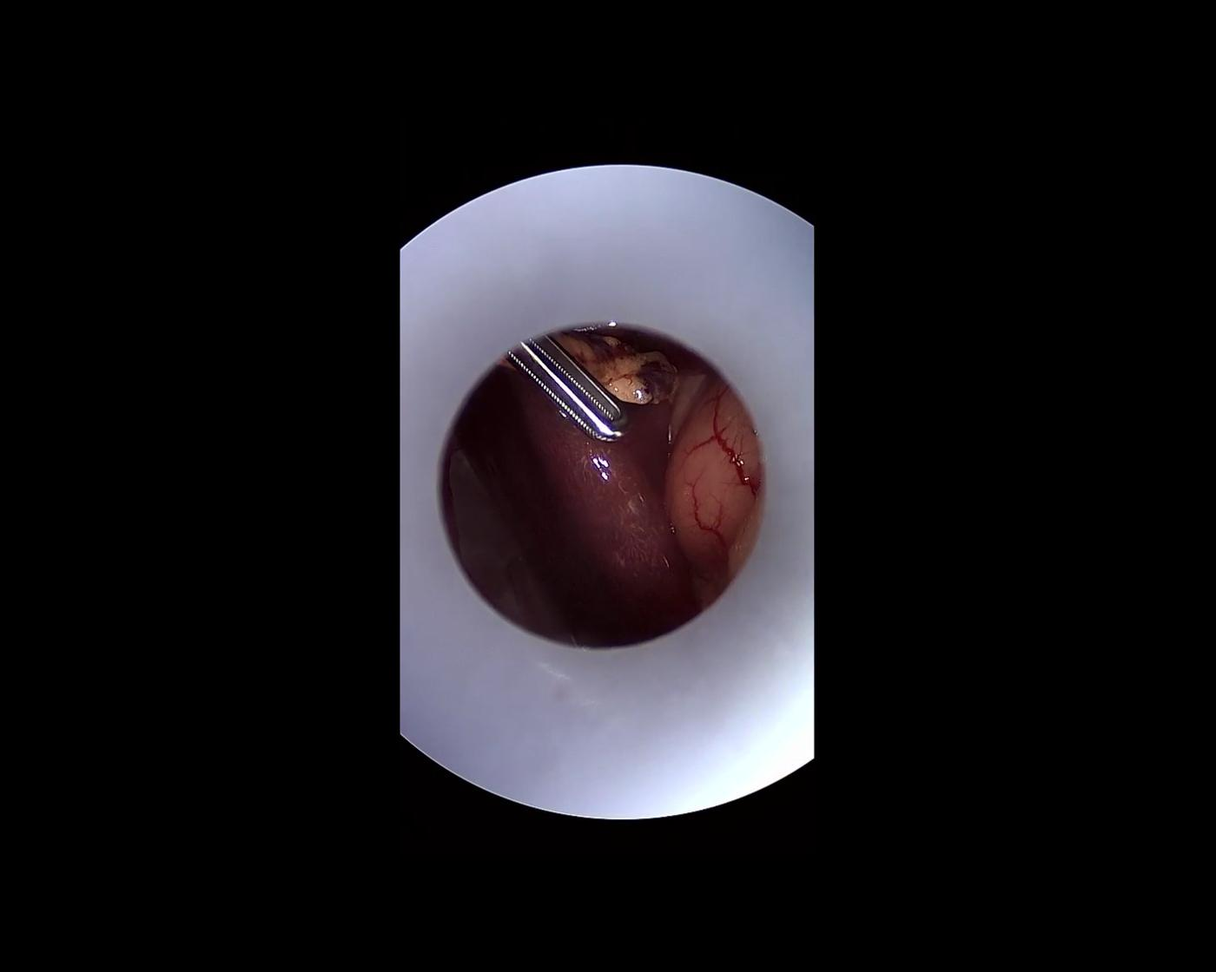Forceps: (502, 324, 640, 453)
Liver: (440, 328, 717, 675)
